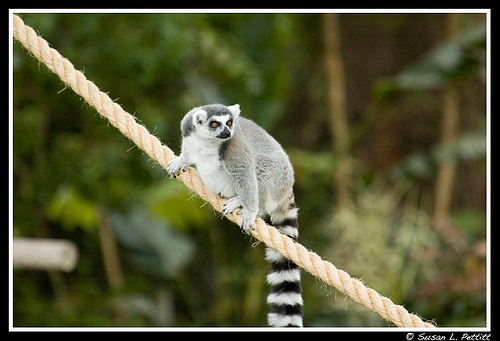cat: (170, 102, 303, 327)
